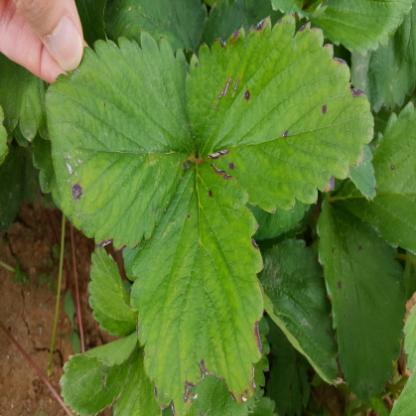Strawberry_Leaf_Spot: (182, 12, 374, 214), (122, 158, 265, 415), (44, 29, 196, 252), (314, 200, 406, 401), (328, 102, 415, 255)
